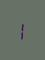one: (19, 19, 23, 40)
